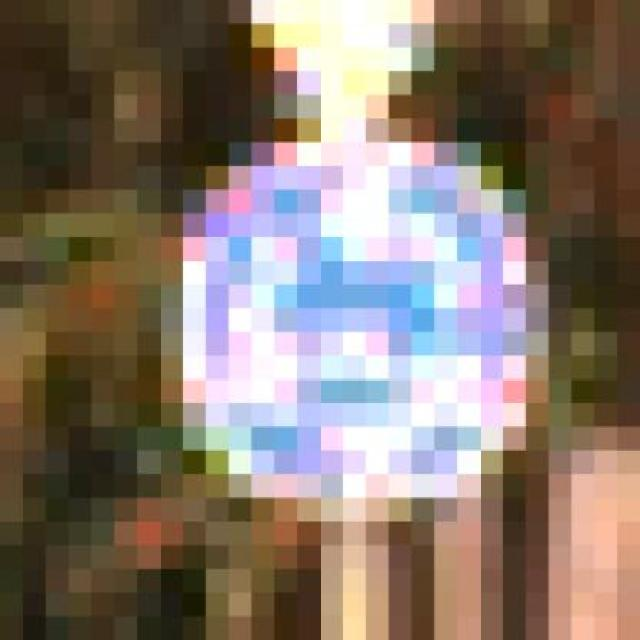Round-About: (115, 95, 594, 593)
